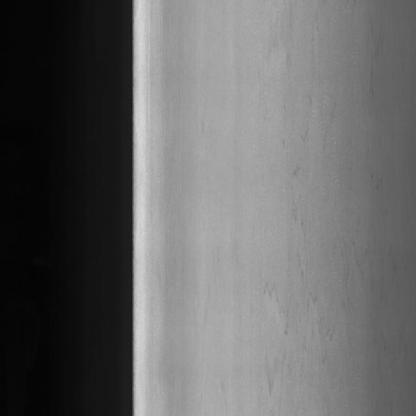silk_spot: (250, 38, 364, 392)
